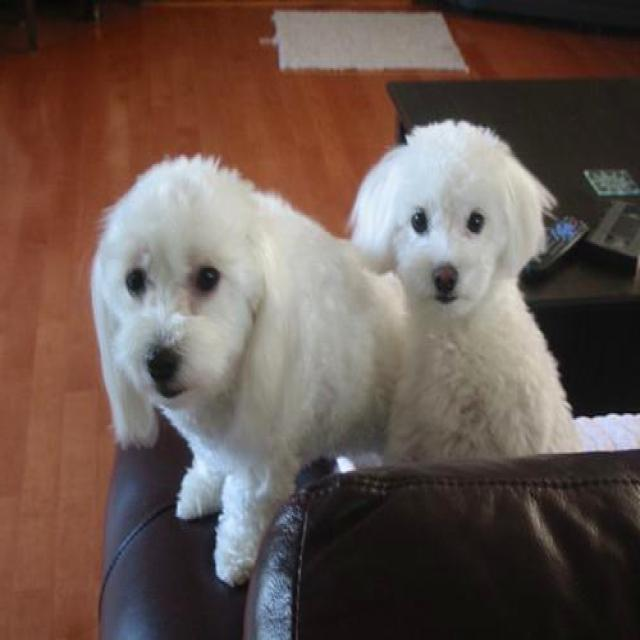maltese_dog: (89, 154, 408, 588), (350, 120, 578, 472)
